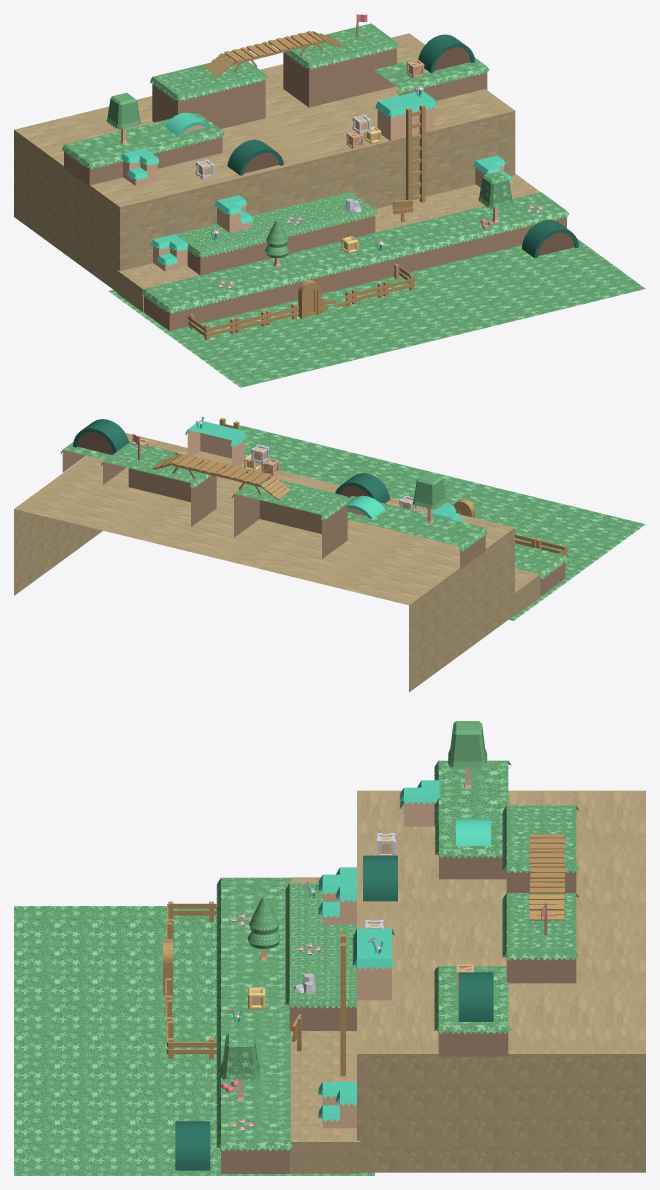
Rendered from minecraft-map.fbx.
The picture shows the model from 3 angles, top to bottom: view 1: azimuth 30°, elevation 25°; view 2: azimuth 150°, elevation 25°; view 3: azimuth 270°, elevation 25°; orthographic projection. The views are drawn at different scales.
Visible parts, largest first — view 1: mapaMinecraft2_Plane1; view 2: mapaMinecraft2_Plane1; view 3: mapaMinecraft2_Plane1.
Boxes of the visible parts, left/top/right/bottom form: mapaMinecraft2_Plane1: left=14, top=14, right=645, bottom=387; mapaMinecraft2_Plane1: left=14, top=416, right=645, bottom=692; mapaMinecraft2_Plane1: left=14, top=721, right=645, bottom=1175.
Bounding box in the file's own units: 3632 × 1339 × 3596.
40 materials, 7 textured.
